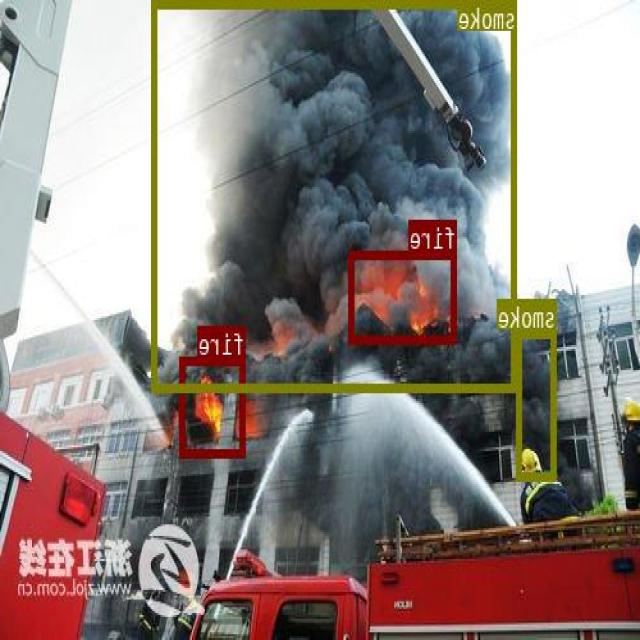fire: (350, 249, 458, 341), (181, 355, 246, 456)
smoke: (153, 0, 519, 389), (518, 328, 558, 479)
